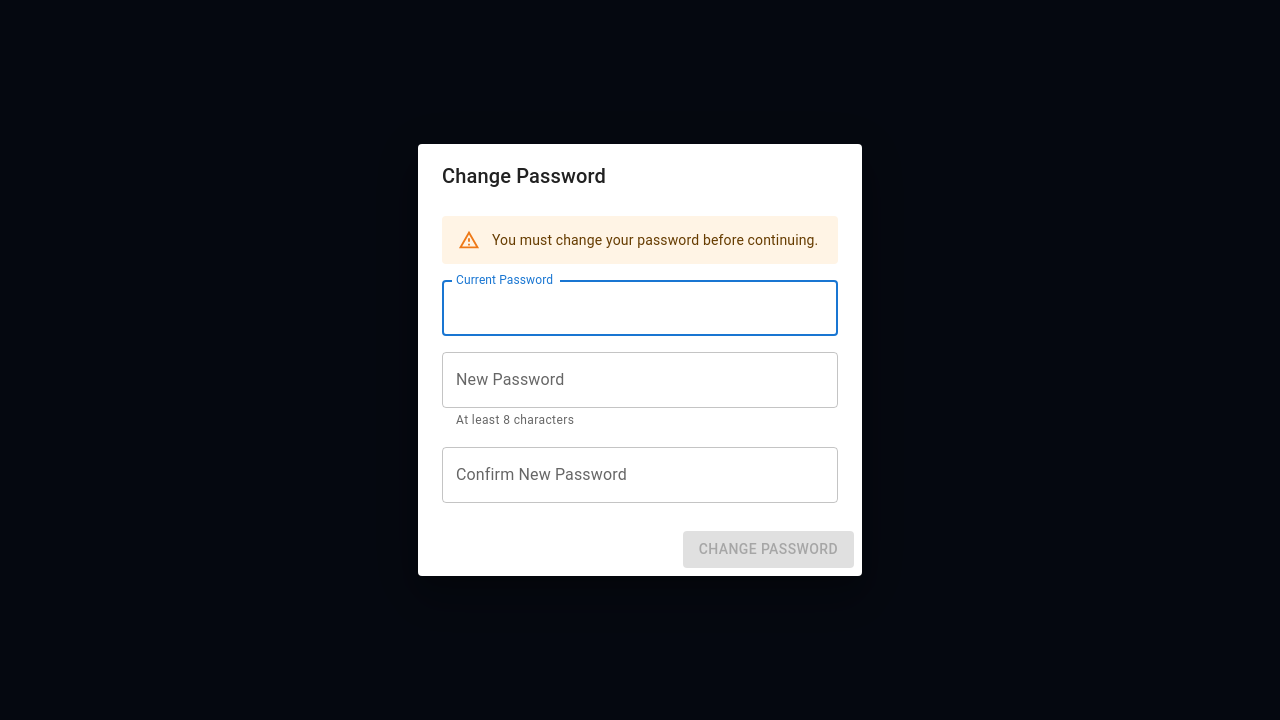
ChangePasswordDialog (forced) › keeps the forced flag, shows the error and refetches nothing when the change fails
In the password field labelled "Current Password": (640, 308) [442,280,838,336], type "Admin123!"
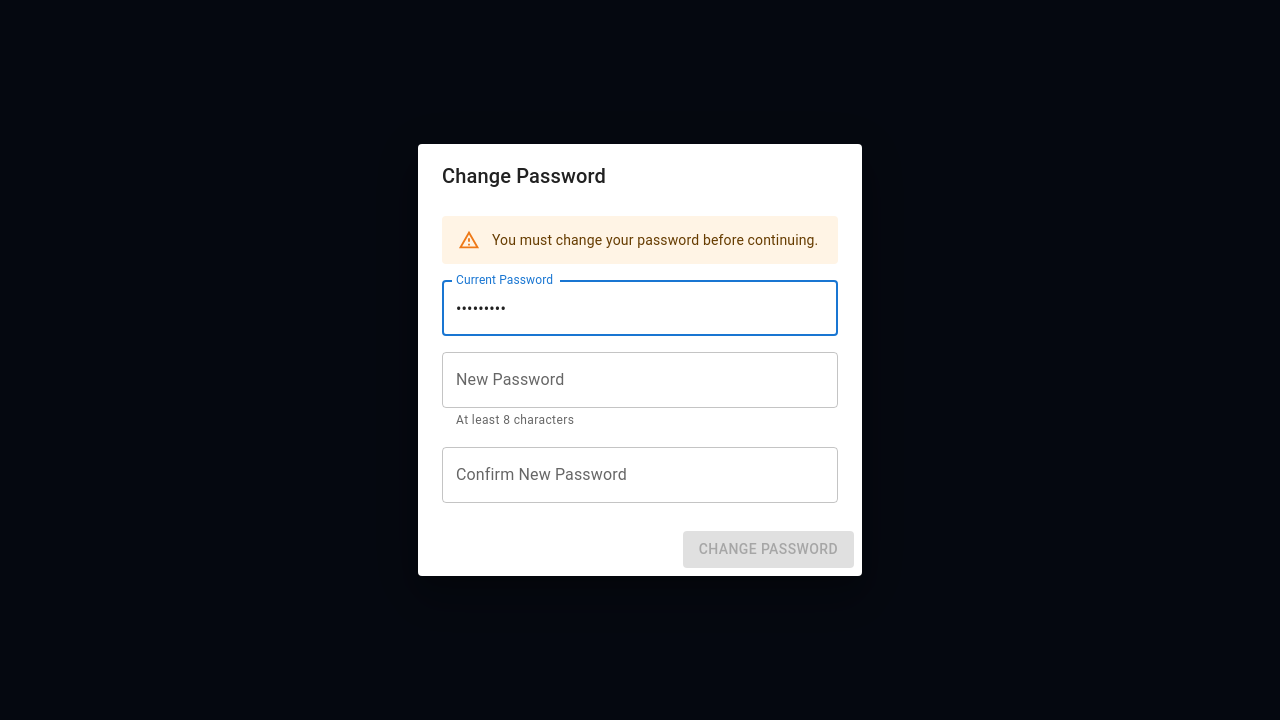
In the password field labelled "New Password": (640, 380) [442,352,838,408], type "NewPassw0rd!"
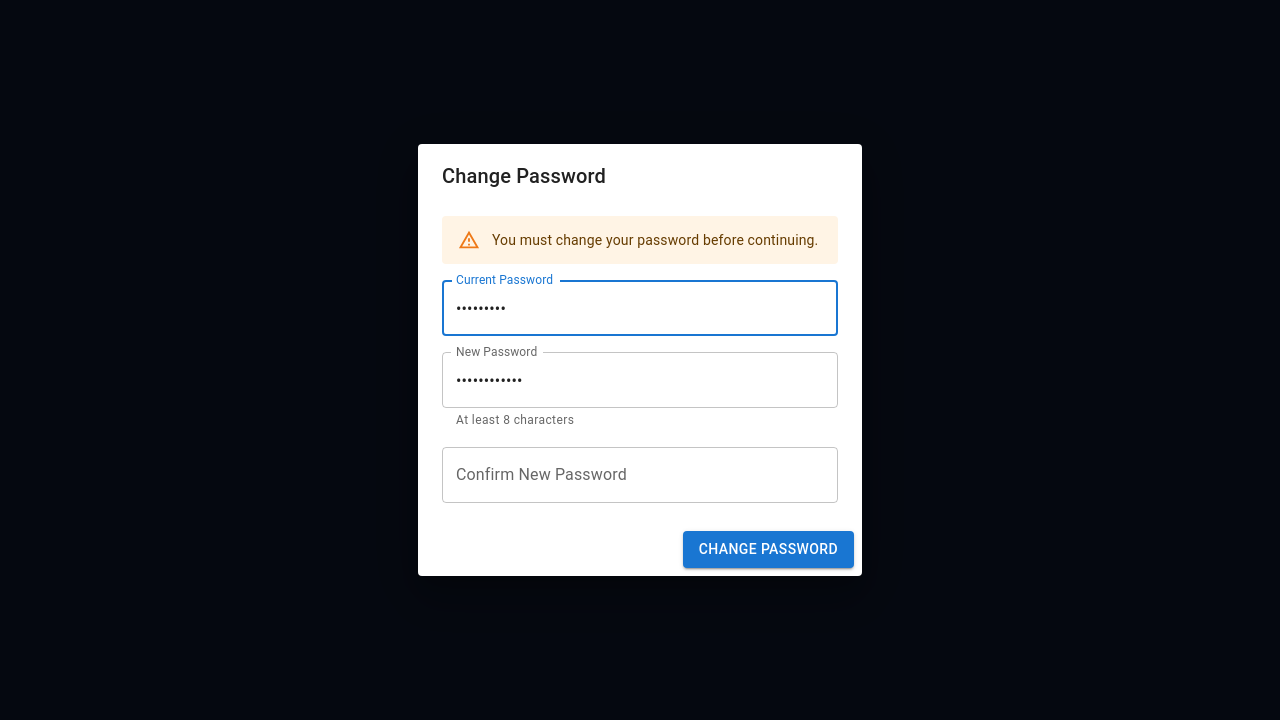
In the password field labelled "Confirm New Password": (640, 475) [442,447,838,503], type "NewPassw0rd!"
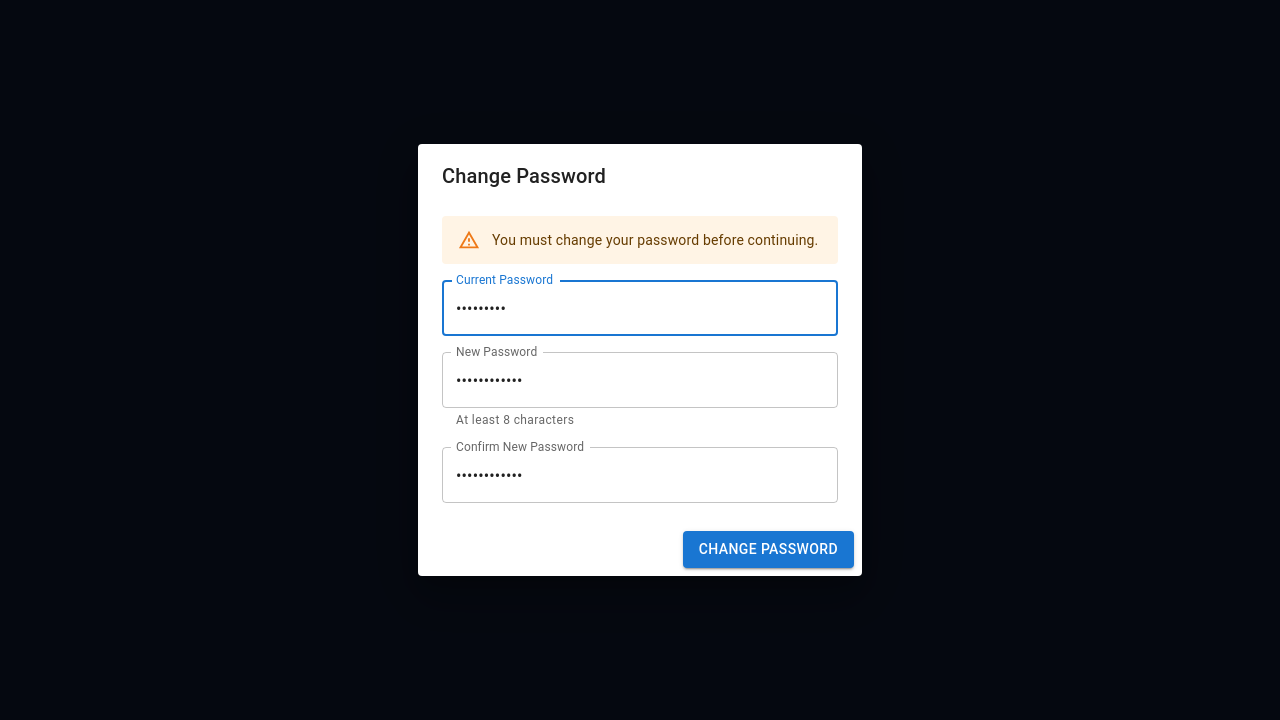
Click the button "Change Password": (768, 549) [683,531,854,568]
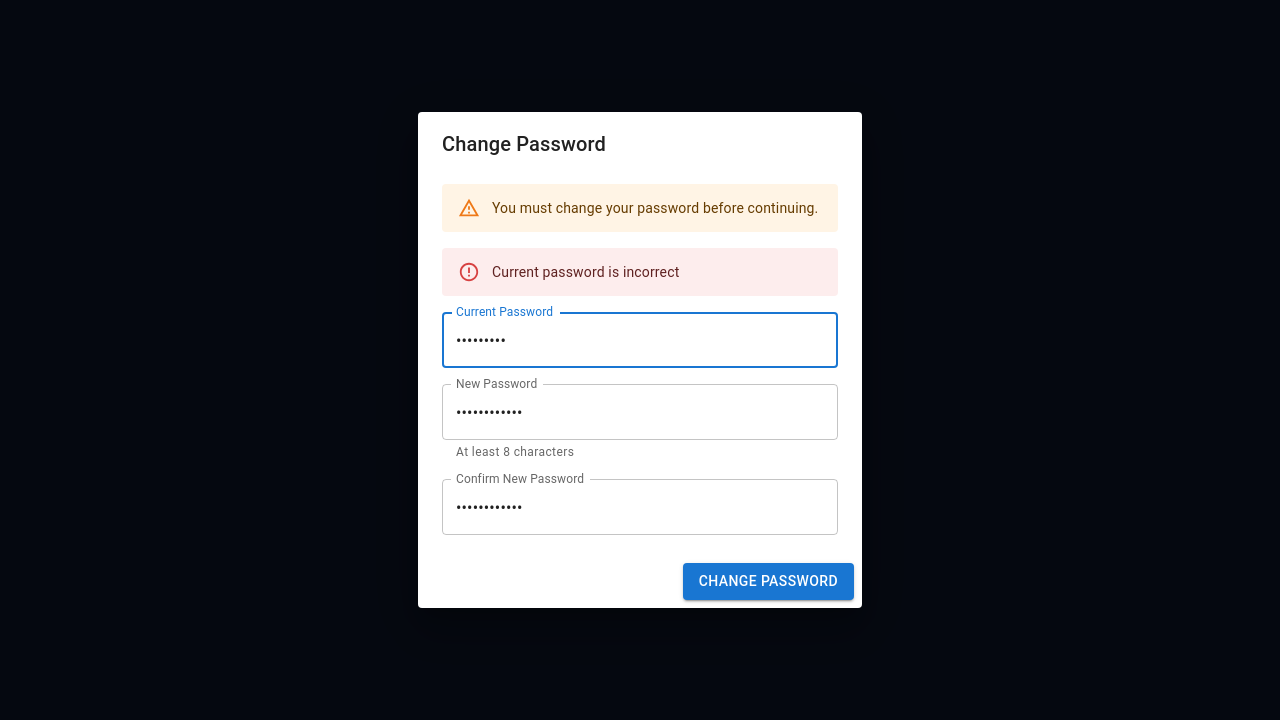
Check: the text "Current password is incorrect" is shown, box [492,264,679,280]
